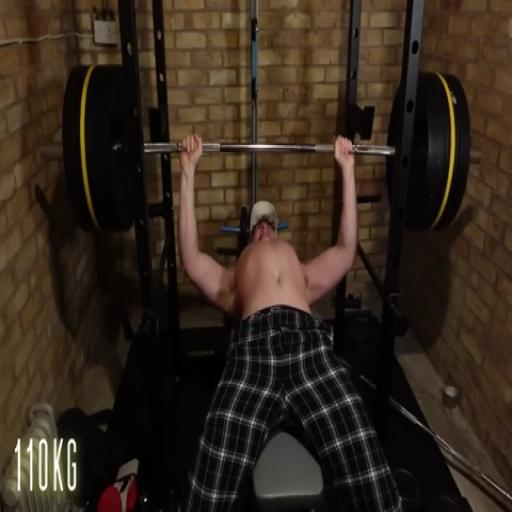exercise: (174, 131, 407, 510)
